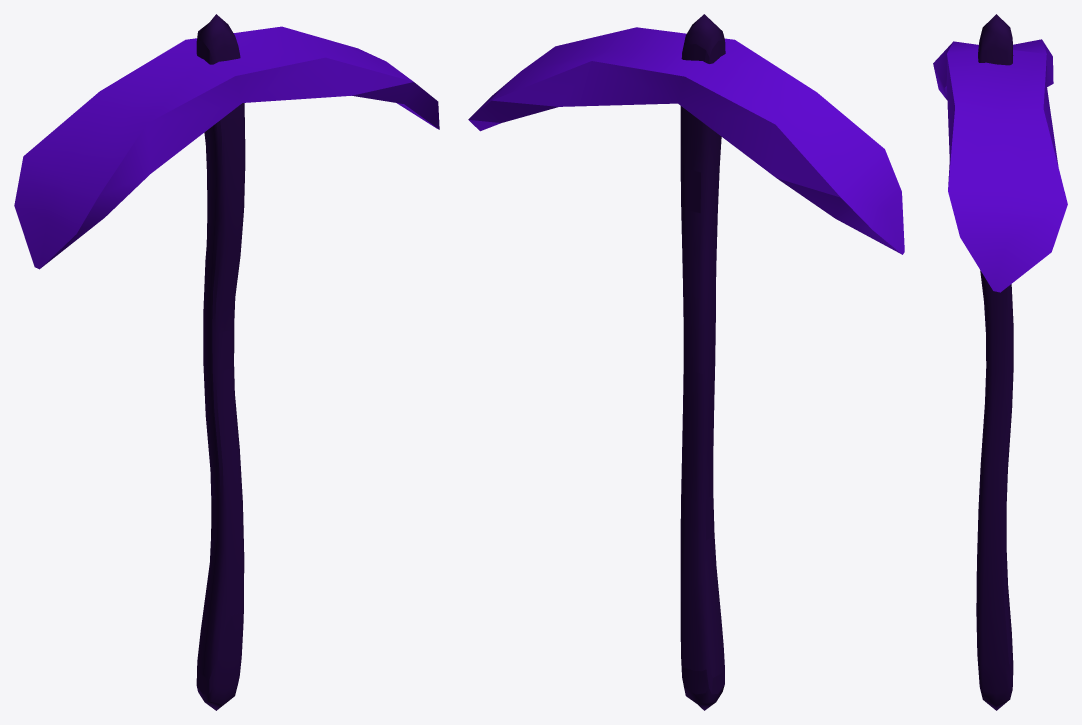
Rendered from Pix1.fbx.
3 views of the same model, side by side, from view 1: azimuth 30°, elevation 25°; view 2: azimuth 150°, elevation 25°; view 3: azimuth 270°, elevation 25° (orthographic).
Parts seen in each view (by area): view 1: Plane.003, Pickaxe.003; view 2: Plane.003, Pickaxe.003; view 3: Plane.003, Pickaxe.003.
Part boxes in pixels (x1,y1,x2,y2): Plane.003: (14, 26, 439, 269); Pickaxe.003: (196, 14, 245, 710); Plane.003: (468, 27, 904, 254); Pickaxe.003: (680, 14, 725, 710); Plane.003: (933, 39, 1067, 292); Pickaxe.003: (976, 14, 1013, 710).
Bounding box in the file's own units: 196 × 317 × 55.52.
